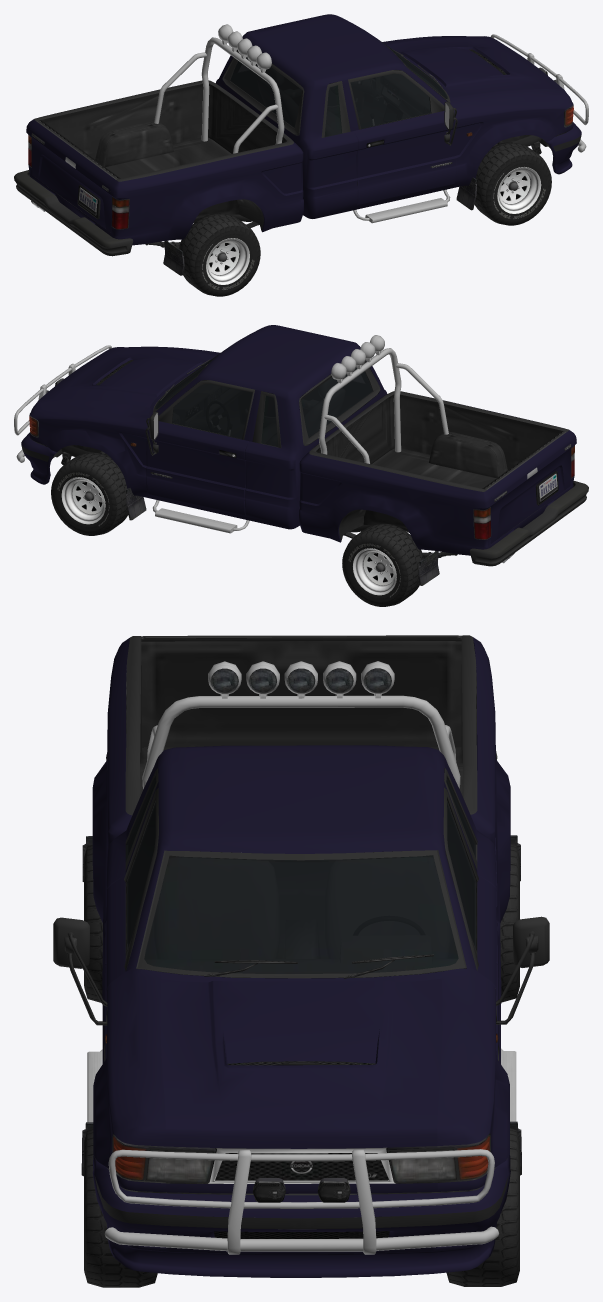
The model's file is pickup.glb.
3 views of the same model, one above another, from view 1: azimuth 30°, elevation 25°; view 2: azimuth 150°, elevation 25°; view 3: azimuth 270°, elevation 25° (orthographic). The views are drawn at different scales.
Parts seen in each view (by area): view 1: krmlgtbdy85_Body_krmlgtbdy85_Bodymat_0, krmlgtbdy85_Bottom_UCB_BOTTOM_0, krmlgtbdy85_Hood_krmlgtbdy85_Bodymat_0, krmlgtbdy85_Interior_UCB_Interiors_1_0, krmlgtbdy85_WheelStock_RR_RO1a_Tire_0, krmlgtbdy85_WheelStock_FR_RO1a_Tire_0, krmlgtbdy85_Trunkdoor_krmlgtbdy85_Bodymat_0, krmlgtbdy85_Extra_A_UCB_BOTTOM_0, krmlgtbdy85_Glass_Passanger_UCB_Lights_and_Glass_Transperent, krmlgtbdy85_Bumper_Rear_UCB_BOTTOM_0, krmlgtbdy85_Lifted_Trim_UCB_BOTTOM_0, krmlgtbdy85_Glass_Rear_UCB_Lights_and_Glass_Transperent_0 (+6 smaller); view 2: krmlgtbdy85_Body_krmlgtbdy85_Bodymat_0, krmlgtbdy85_Bottom_UCB_BOTTOM_0, krmlgtbdy85_Hood_krmlgtbdy85_Bodymat_0, krmlgtbdy85_Interior_UCB_Interiors_1_0, krmlgtbdy85_WheelStock_RL_RO1a_Tire_0, krmlgtbdy85_WheelStock_FL_RO1a_Tire_0, krmlgtbdy85_Trunkdoor_krmlgtbdy85_Bodymat_0, krmlgtbdy85_Extra_A_UCB_BOTTOM_0, krmlgtbdy85_Glass_Driver_UCB_Lights_and_Glass_Transperent_0, krmlgtbdy85_Bumper_Rear_UCB_BOTTOM_0, krmlgtbdy85_Lifted_Trim_UCB_BOTTOM_0, krmlgtbdy85_Glass_Rear_UCB_Lights_and_Glass_Transperent_0 (+6 smaller); view 3: krmlgtbdy85_Body_krmlgtbdy85_Bodymat_0, krmlgtbdy85_Hood_krmlgtbdy85_Bodymat_0, krmlgtbdy85_Interior_UCB_Interiors_1_0, krmlgtbdy85_Windshield_UCB_Lights_and_Glass_Transperent_0, krmlgtbdy85_Trunk_door_inner_UCB_BOTTOM_0, krmlgtbdy85_Bottom_UCB_BOTTOM_0, krmlgtbdy85_Bumper_Front_krmlgtbdy85_Bodymat_0, krmlgtbdy85_Bullbar_UCB_BOTTOM_0, krmlgtbdy85_Extra_A_UCB_BOTTOM_0, krmlgtbdy85_Lifted_Trim_UCB_BOTTOM_0, krmlgtbdy85_Bumper_front_inner_UCB_BOTTOM_0, krmlgtbdy85_Headlights_Glass_UCB_Lights_and_Glass_Transperen (+8 smaller).
Boxes of the visible parts, x1,y1,x2,y2 form: krmlgtbdy85_Body_krmlgtbdy85_Bodymat_0: (26,14,573,245); krmlgtbdy85_Bottom_UCB_BOTTOM_0: (28,42,573,240); krmlgtbdy85_Hood_krmlgtbdy85_Bodymat_0: (386,38,563,97); krmlgtbdy85_Interior_UCB_Interiors_1_0: (224,50,446,135); krmlgtbdy85_WheelStock_RR_RO1a_Tire_0: (178,213,260,296); krmlgtbdy85_WheelStock_FR_RO1a_Tire_0: (474,142,551,225); krmlgtbdy85_Trunkdoor_krmlgtbdy85_Bodymat_0: (30,121,115,233); krmlgtbdy85_Extra_A_UCB_BOTTOM_0: (154,24,284,153); krmlgtbdy85_Glass_Passanger_UCB_Lights_and_Glass_Transperent: (350,73,430,128); krmlgtbdy85_Bumper_Rear_UCB_BOTTOM_0: (14,170,133,256); krmlgtbdy85_Lifted_Trim_UCB_BOTTOM_0: (163,101,476,275); krmlgtbdy85_Glass_Rear_UCB_Lights_and_Glass_Transperent_0: (230,57,301,127); krmlgtbdy85_Body_krmlgtbdy85_Bodymat_0: (29,325,576,555); krmlgtbdy85_Bottom_UCB_BOTTOM_0: (29,352,574,563); krmlgtbdy85_Hood_krmlgtbdy85_Bodymat_0: (39,349,215,407); krmlgtbdy85_Interior_UCB_Interiors_1_0: (157,360,379,446); krmlgtbdy85_WheelStock_RL_RO1a_Tire_0: (342,523,423,606); krmlgtbdy85_WheelStock_FL_RO1a_Tire_0: (51,452,128,535); krmlgtbdy85_Trunkdoor_krmlgtbdy85_Bodymat_0: (487,432,572,543); krmlgtbdy85_Extra_A_UCB_BOTTOM_0: (318,335,448,463); krmlgtbdy85_Glass_Driver_UCB_Lights_and_Glass_Transperent_0: (172,384,252,439); krmlgtbdy85_Bumper_Rear_UCB_BOTTOM_0: (469,481,588,566); krmlgtbdy85_Lifted_Trim_UCB_BOTTOM_0: (125,411,439,585); krmlgtbdy85_Glass_Rear_UCB_Lights_and_Glass_Transperent_0: (301,367,372,437); krmlgtbdy85_Body_krmlgtbdy85_Bodymat_0: (92,637,510,1193); krmlgtbdy85_Hood_krmlgtbdy85_Bodymat_0: (160,978,442,1148); krmlgtbdy85_Interior_UCB_Interiors_1_0: (129,768,473,972); krmlgtbdy85_Windshield_UCB_Lights_and_Glass_Transperent_0: (144,855,458,973); krmlgtbdy85_Trunk_door_inner_UCB_BOTTOM_0: (141,635,461,747); krmlgtbdy85_Bottom_UCB_BOTTOM_0: (95,635,507,1229); krmlgtbdy85_Bumper_Front_krmlgtbdy85_Bodymat_0: (92,1155,510,1277); krmlgtbdy85_Bullbar_UCB_BOTTOM_0: (104,1149,498,1254); krmlgtbdy85_Extra_A_UCB_BOTTOM_0: (142,661,460,788); krmlgtbdy85_Lifted_Trim_UCB_BOTTOM_0: (53,835,549,1176); krmlgtbdy85_Bumper_front_inner_UCB_BOTTOM_0: (95,1176,508,1238); krmlgtbdy85_Headlights_Glass_UCB_Lights_and_Glass_Transperen: (113,1136,490,1182).
Size of the model in its own units: 4.93 by 1.92 by 2.14.
8 materials, 7 textured.
